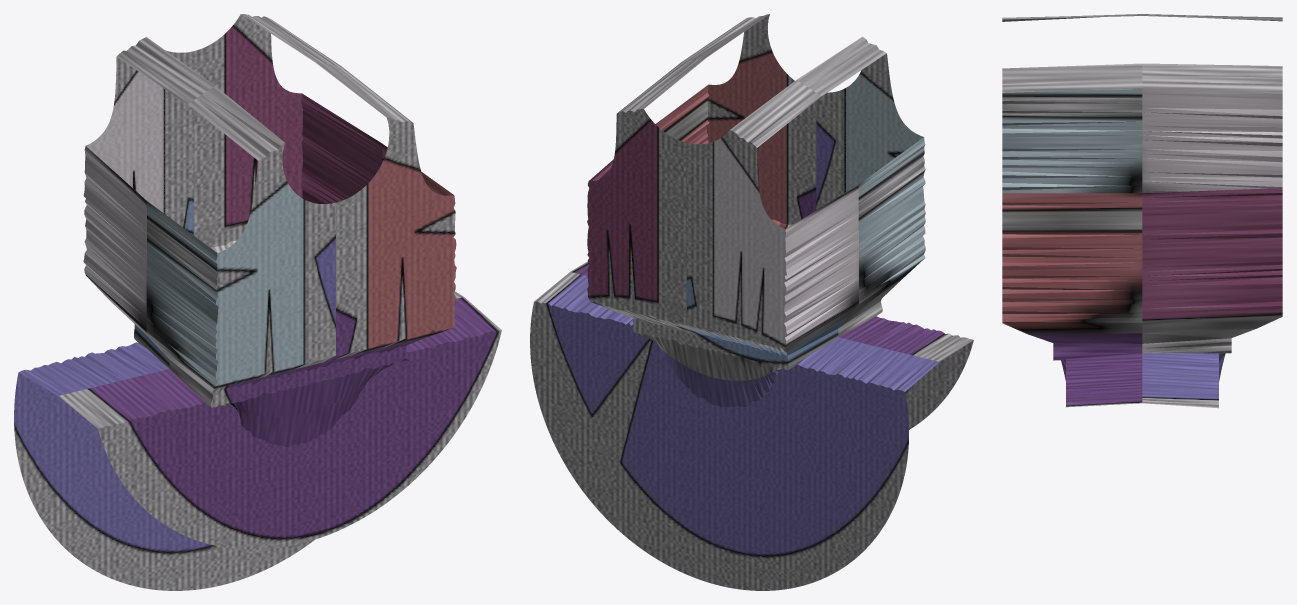
The model's file is valid_garment_wholebody_boxmesh.obj.
3 renders of one model, left to right at view 1: azimuth 30°, elevation 25°; view 2: azimuth 150°, elevation 25°; view 3: azimuth 270°, elevation 25°, orthographic. The views are drawn at different scales.
Bounding box in the file's own units: 92.99 × 115 × 55.
